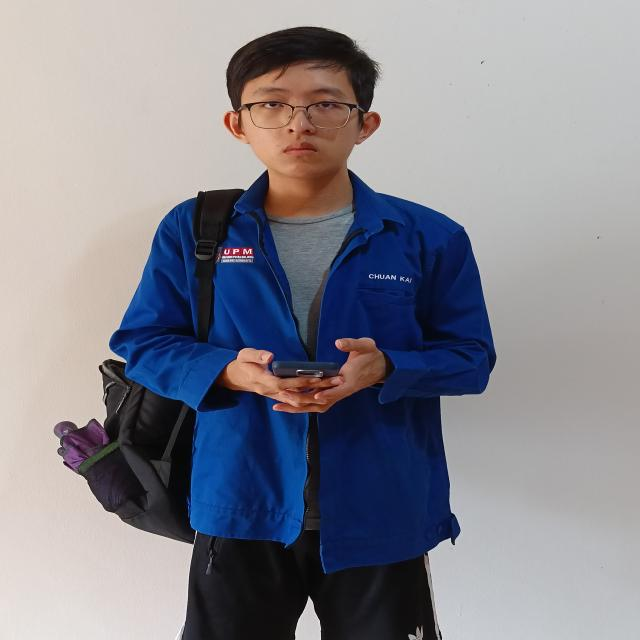person_with_labcoat: (54, 27, 496, 640)
